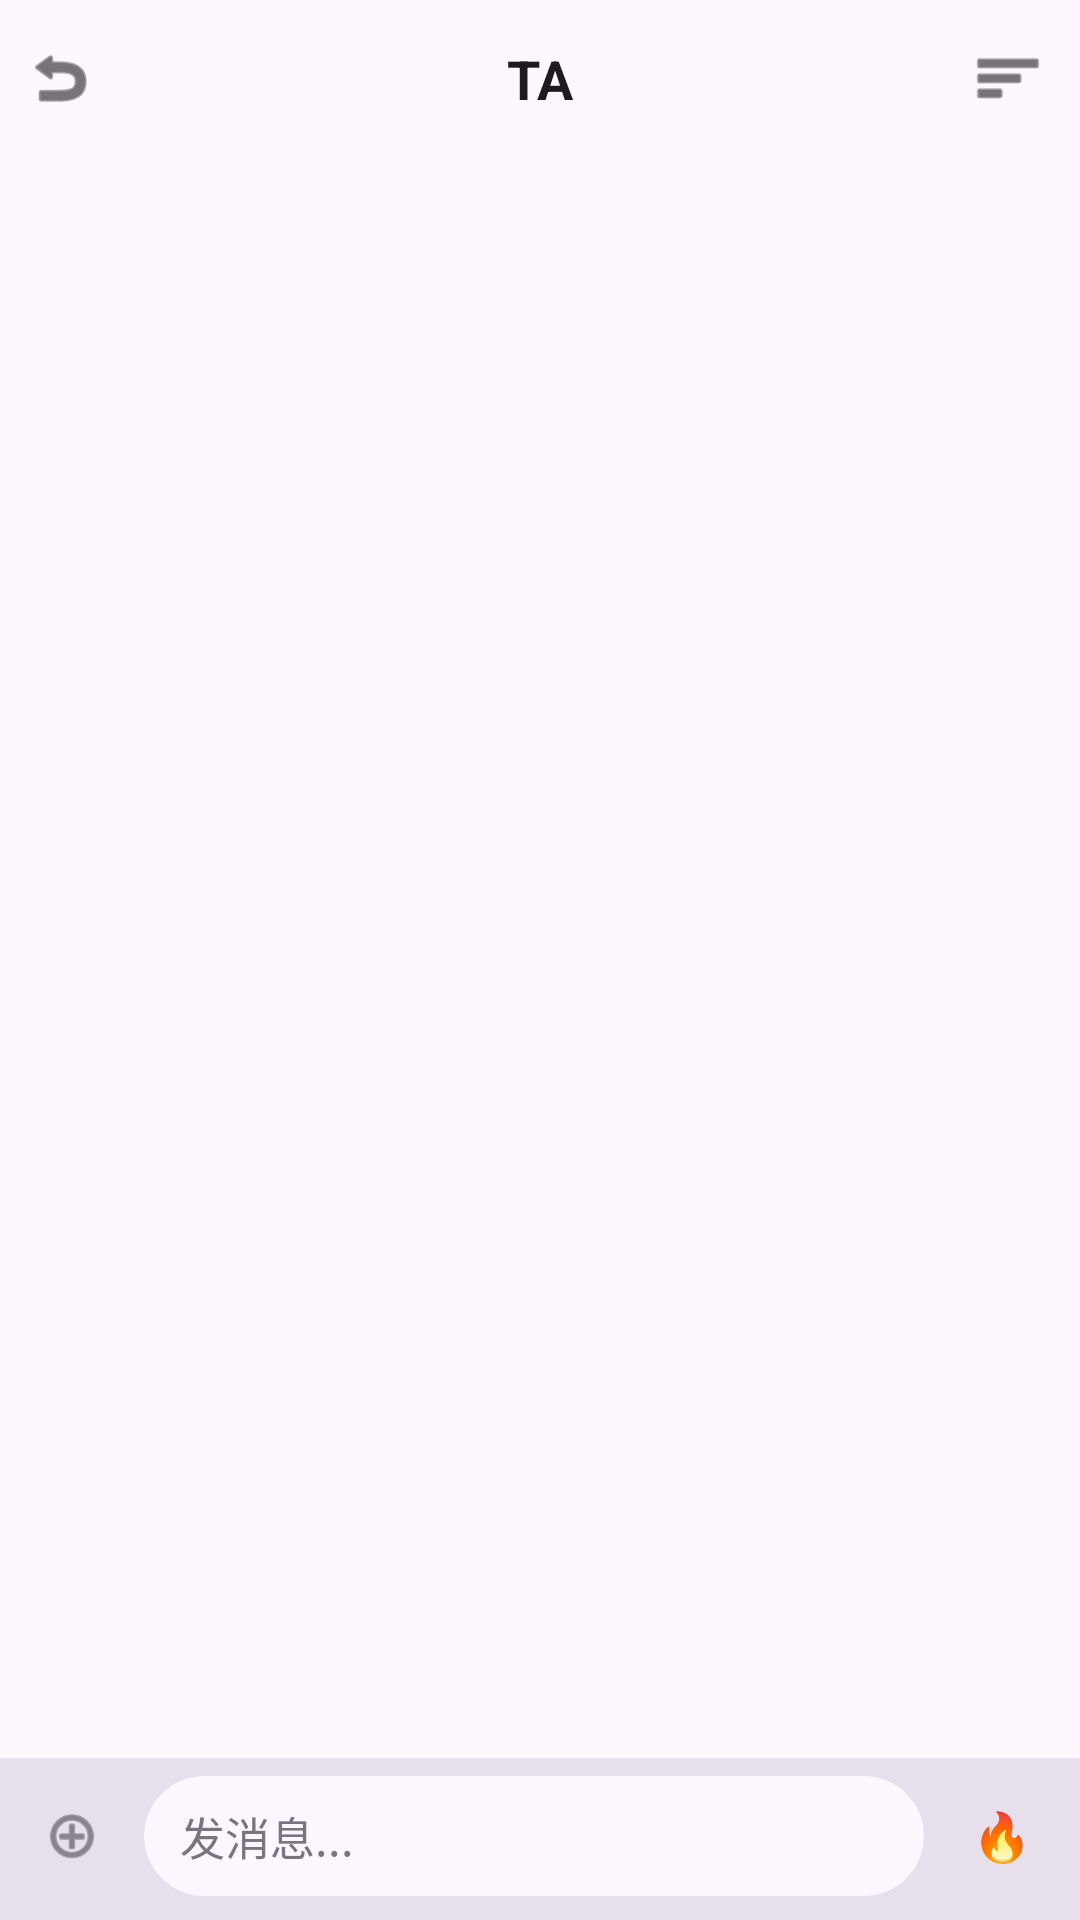

Named icons in this screenshot (1080w x 1920h) and their bounding boxes, Rect(x1, y1, x2, y2):
add: Rect(50, 1814, 94, 1859)
revert: Rect(35, 55, 87, 102)
sort by size: Rect(977, 58, 1039, 99)
